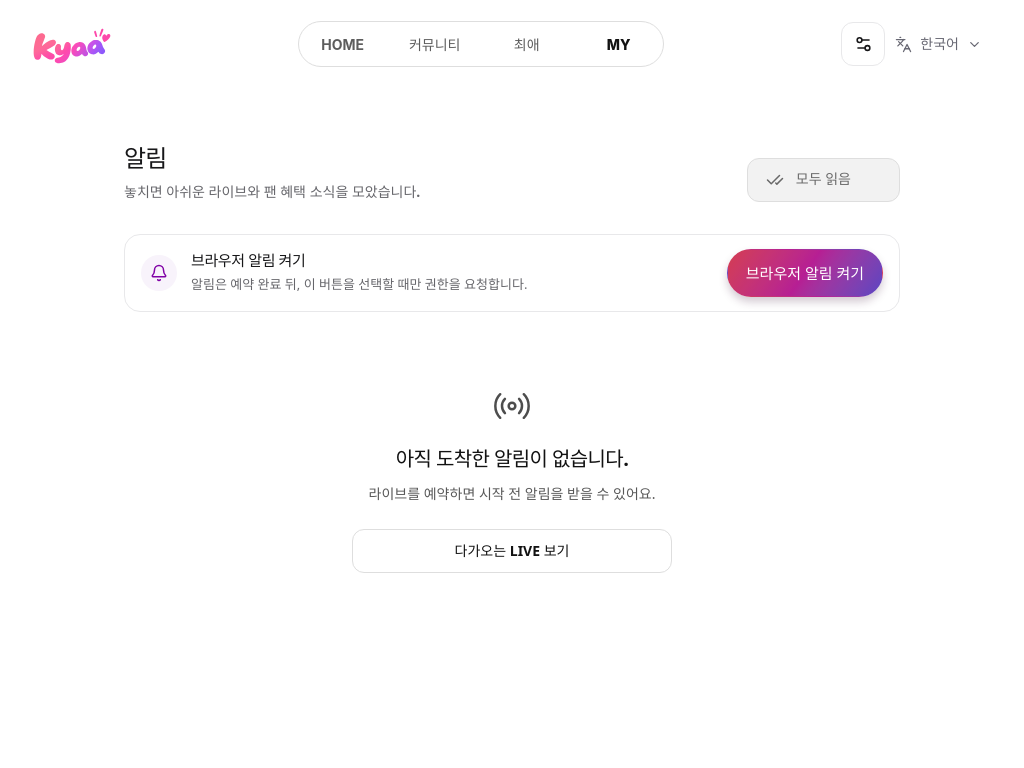
FAN-019 Notification Center › announces the failed push result
The image size is (1024, 768).
Check: the heading "아직 도착한 알림이 없습니다." is shown, box [396, 446, 628, 471]
Click the button "브라우저 알림 켜기" at (805, 273), box [727, 249, 883, 297]
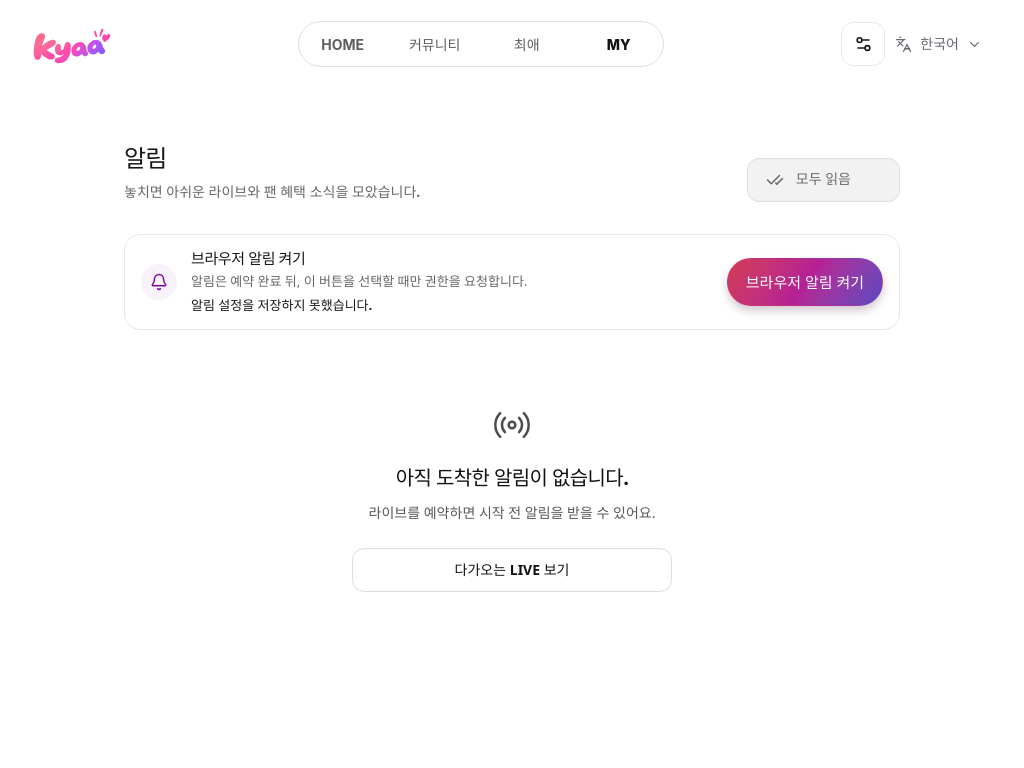
Check: the text "알림 설정을 저장하지 못했습니다." is shown, box [191, 296, 372, 314]
